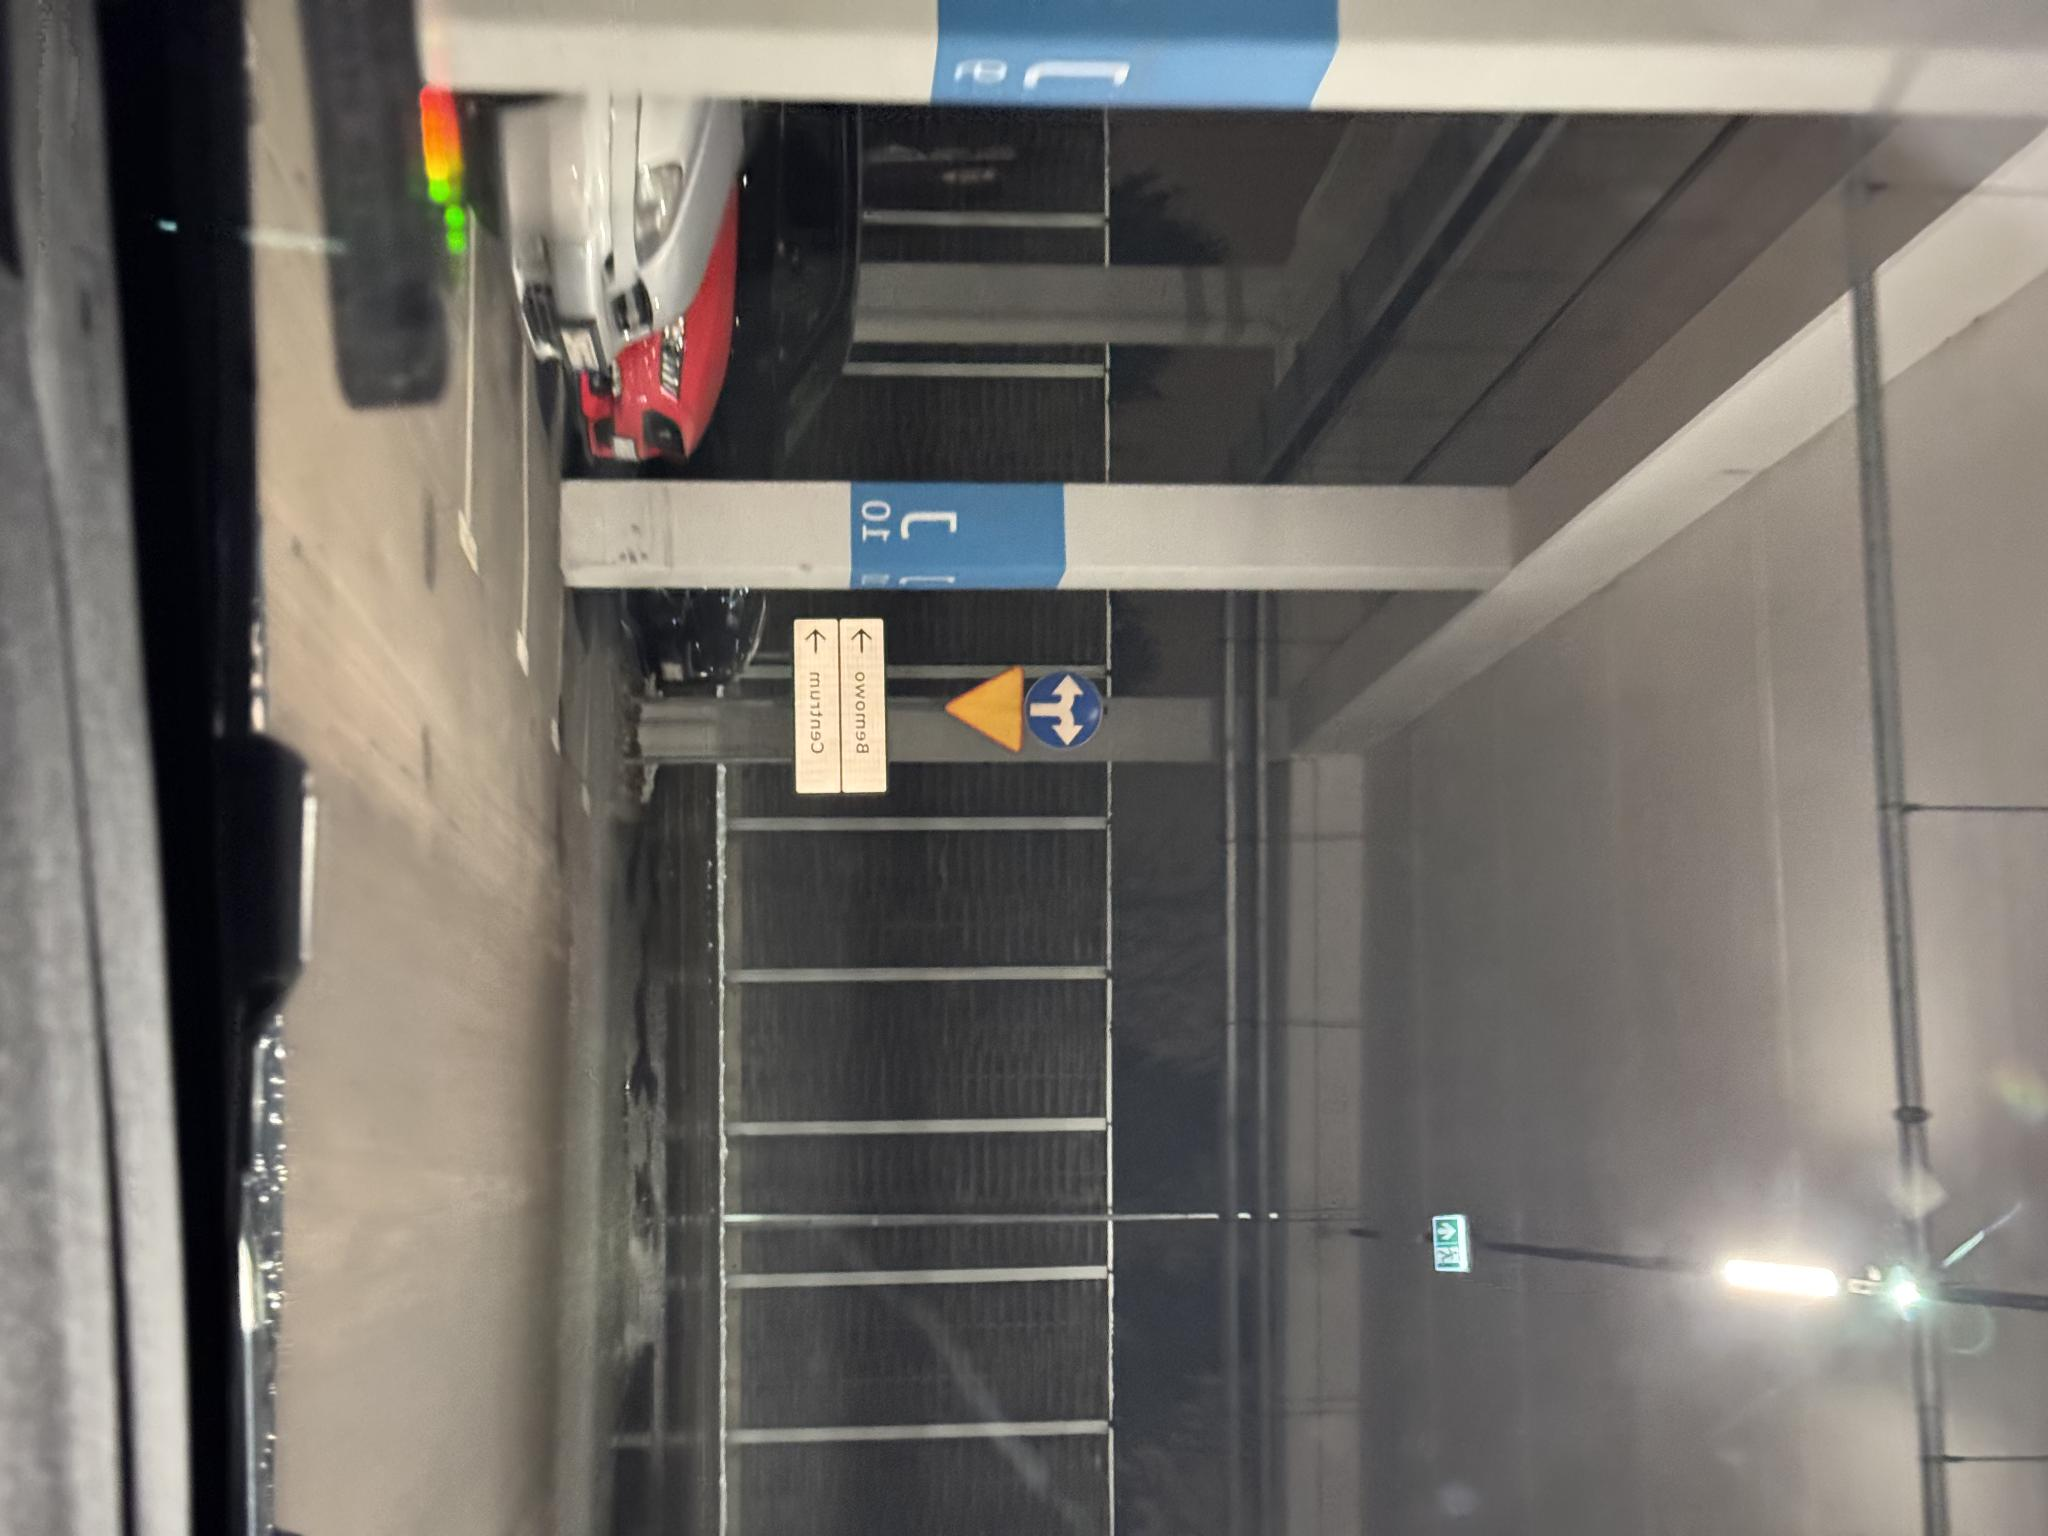mandatory: (1179, 944, 1261, 1025)
warning: (1177, 1025, 1264, 1107)
